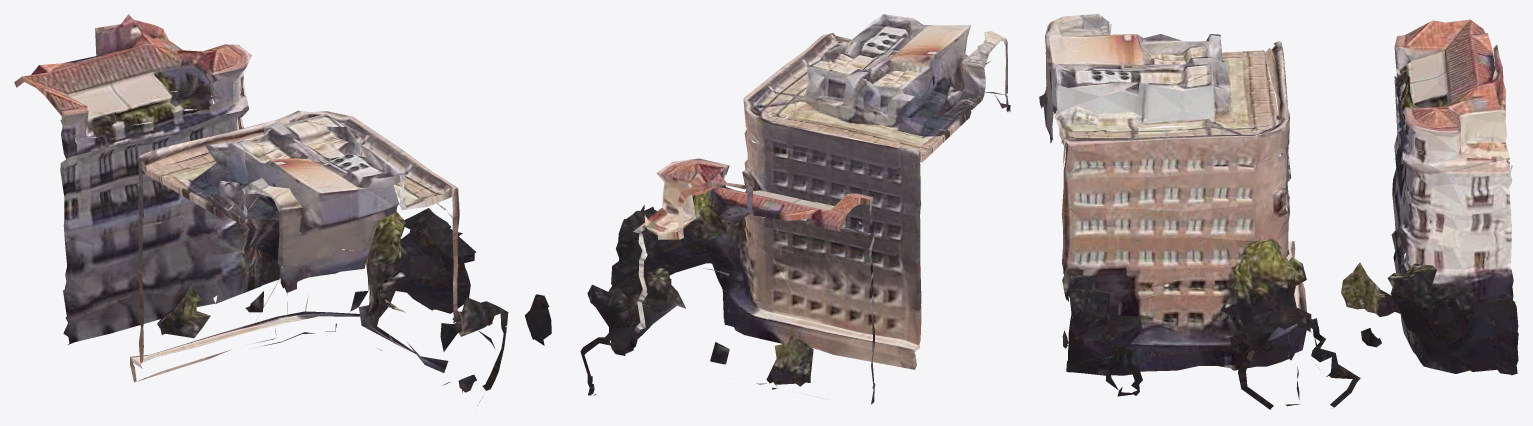
3 renders of one model, left to right at view 1: azimuth 30°, elevation 25°; view 2: azimuth 150°, elevation 25°; view 3: azimuth 270°, elevation 25°, orthographic. The views are drawn at different scales.
Parts seen in each view (by area): view 1: Mesh_0; view 2: Mesh_0; view 3: Mesh_0.
Boxes of the visible parts, x1,y1,x2,y2 form: Mesh_0: [14, 14, 551, 405]; Mesh_0: [580, 14, 1010, 404]; Mesh_0: [1039, 14, 1518, 409].
Size of the model in its own units: 32.99 by 24.8 by 40.9.
2 materials, 2 textured.
